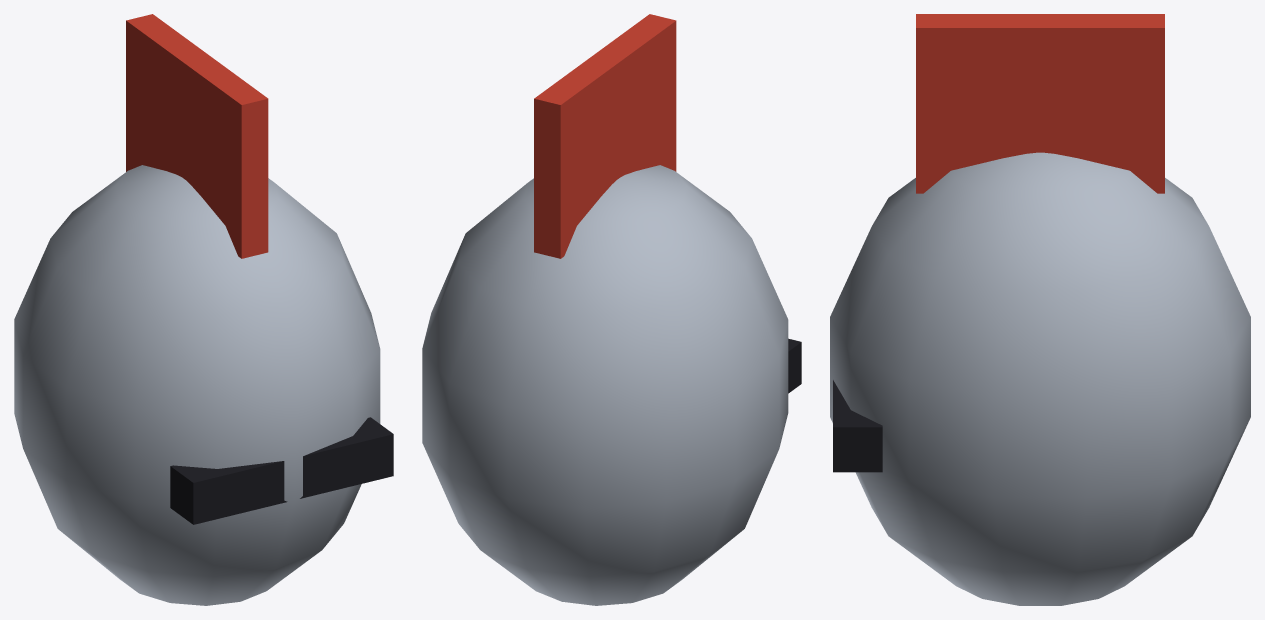
Rendered from helmet_knight.glb.
3 renders of one model, left to right at view 1: azimuth 30°, elevation 25°; view 2: azimuth 150°, elevation 25°; view 3: azimuth 270°, elevation 25°, orthographic. The views are drawn at different scales.
Visible parts, largest first — view 1: helmet_knight; view 2: helmet_knight; view 3: helmet_knight.
Part boxes in pixels (bbox=[...]): helmet_knight: bbox=[14, 14, 393, 605]; helmet_knight: bbox=[422, 14, 801, 605]; helmet_knight: bbox=[830, 14, 1250, 605].
Size of the model in its own units: 0.4562 by 0.76 by 0.507.
